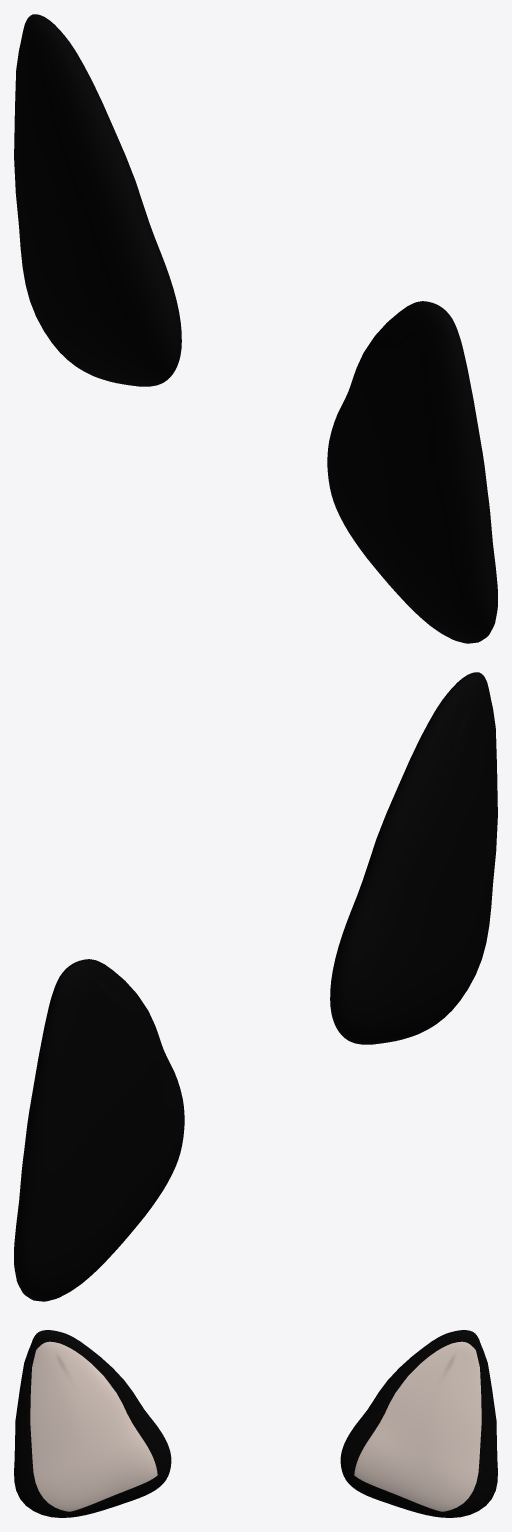
Rendered from orejas.glb.
3 views of the same model, one above another, from view 1: azimuth 30°, elevation 25°; view 2: azimuth 150°, elevation 25°; view 3: azimuth 270°, elevation 25° (orthographic). The views are drawn at different scales.
Visible parts, largest first — view 1: Cube.001; view 2: Cube.001; view 3: Cube.001.
Part boxes in pixels (bbox=[...]): Cube.001: bbox=[14, 14, 497, 643]; Cube.001: bbox=[14, 672, 497, 1301]; Cube.001: bbox=[14, 1330, 497, 1517].
Bounding box in the file's own units: 0.7376 × 3.77 × 9.19.
1 material, 1 textured.
